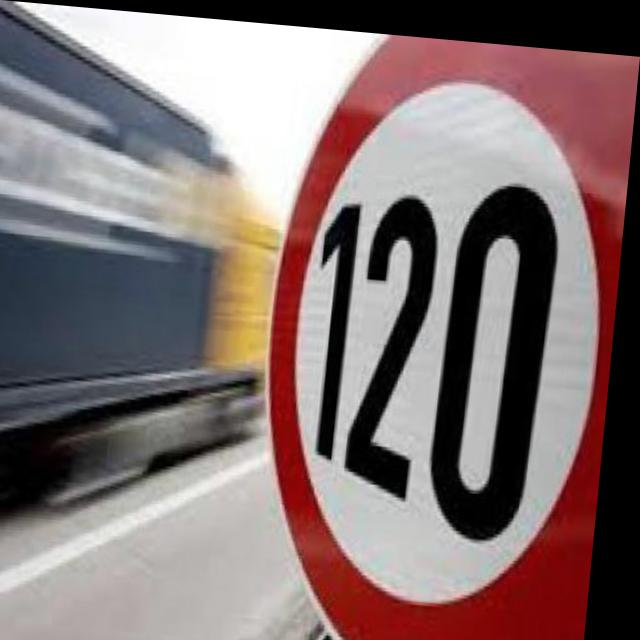limit120: (232, 22, 640, 640)
